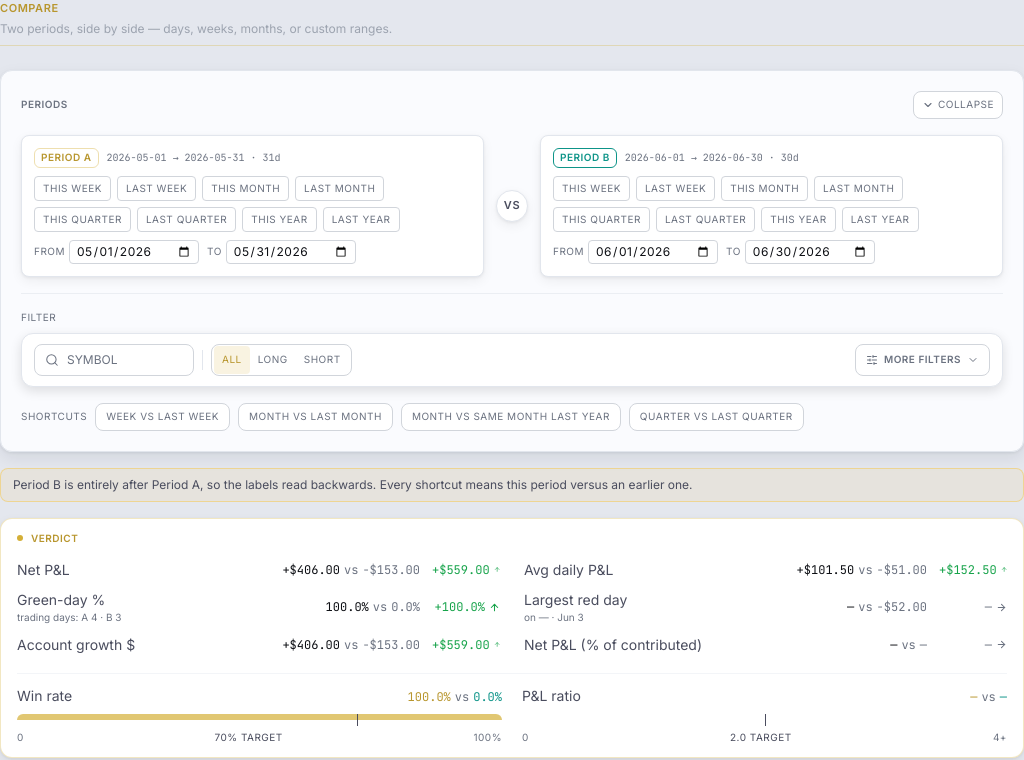
Test: AnalyticsCompareTab — the full filter bar › the hint line generalises from mistakes to the whole filter state
The width and height of the screenshot is (1024, 760).
Expected: the text "both periods narrowed" is not shown
Click the button "Long" at (273, 360), box top-left (250, 346), bottom-right (296, 374)
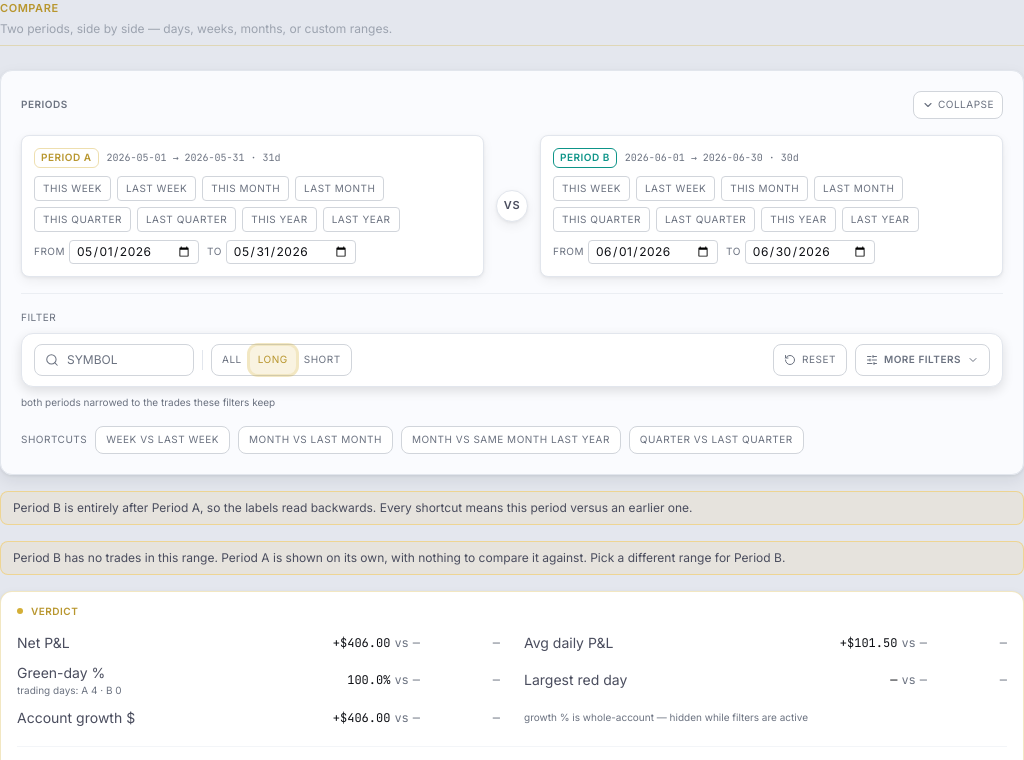
Now the text "both periods narrowed to the trades these filters keep" is shown, box top-left (21, 394), bottom-right (275, 410)
